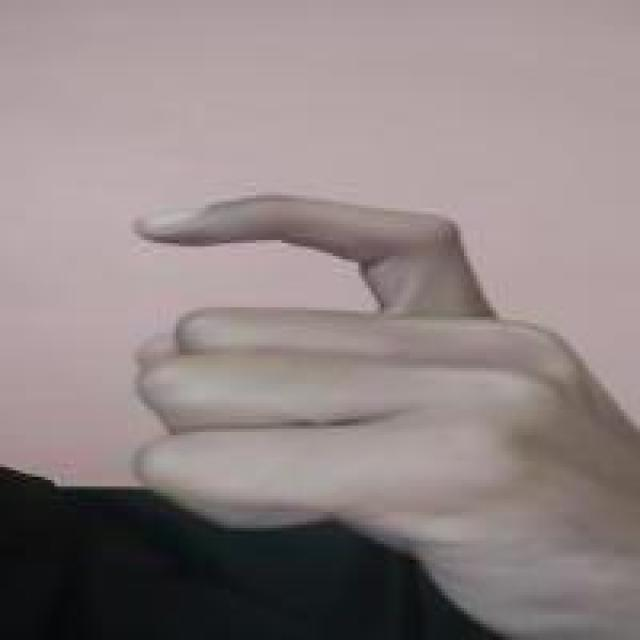X: (131, 181, 640, 616)
